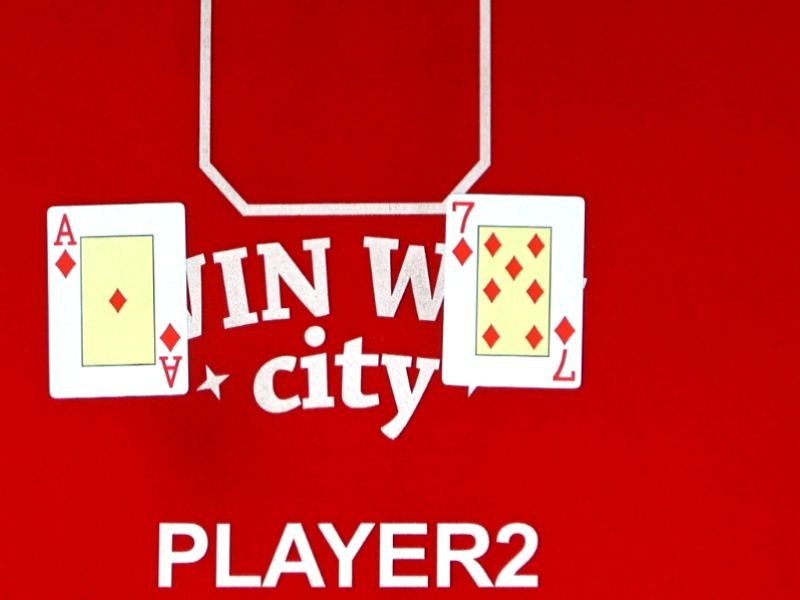7D: (426, 200, 500, 269), (530, 315, 603, 382)
AD: (133, 321, 209, 391), (31, 211, 103, 279)
